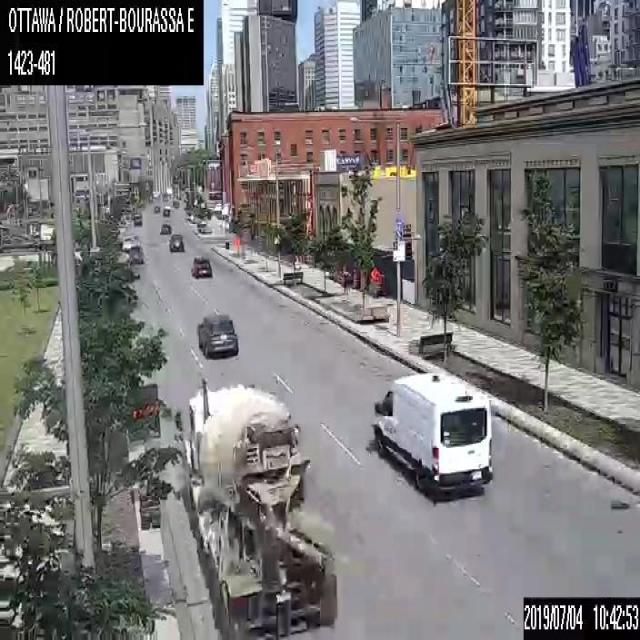construction: (125, 382, 160, 528), (368, 266, 382, 286), (233, 237, 241, 255)
vehicle: (182, 384, 337, 639), (371, 369, 493, 500), (196, 311, 238, 356), (190, 253, 211, 276), (127, 244, 144, 265), (167, 233, 184, 252), (159, 221, 171, 234), (132, 212, 143, 225), (162, 207, 169, 215), (152, 205, 159, 212)
